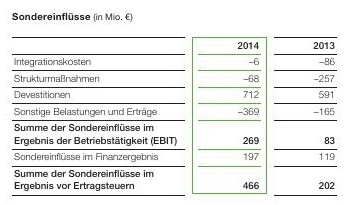table: (0, 0, 350, 205)
